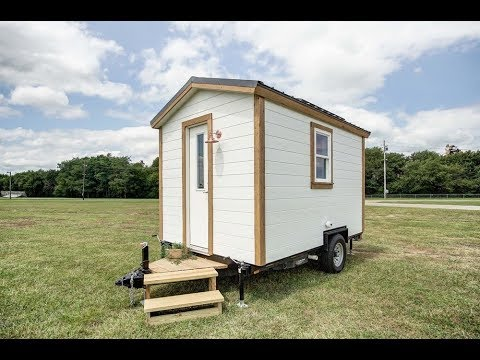Tin-shade House: (136, 78, 372, 274)
